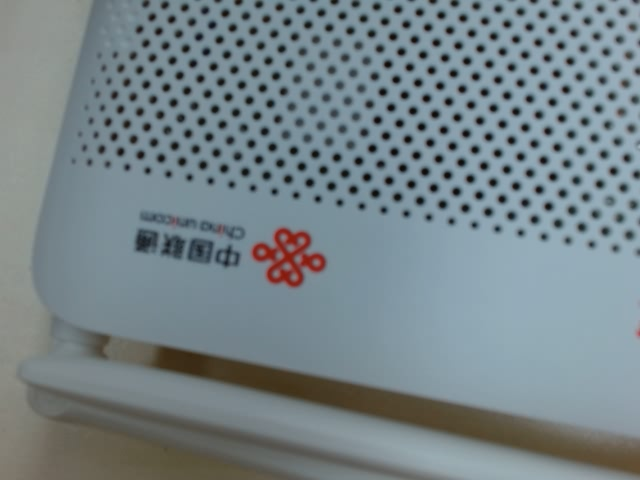AD_ChinaUnicom: (96, 185, 337, 293)
